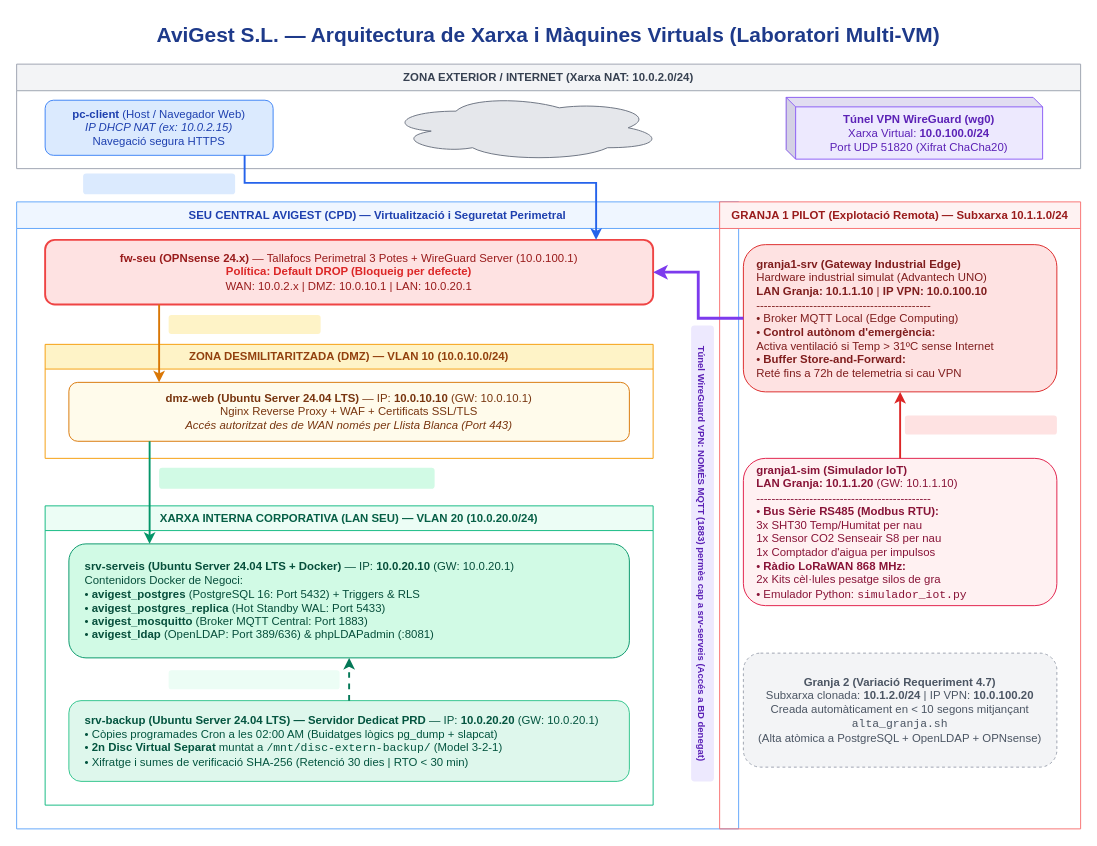
Some shapes in this 1097 by 846 pixel diagram are drawn without their labels. The centre of each missing label's shape, as x and y in pixels:
Cron 02:00 AM (pg_dump + slapcat): the point at 253,679
HTTPS:443 (Llista Blanca): the point at 159,183
NOMÉS SQL:5432 i LDAP:389 (Tota la resta: DROP): the point at 296,477
Reverse Proxy (Port 443 / 80): the point at 244,323
RS485 Modbus + LoRaWAN: the point at 980,424
Xarxa NAT VirtualBox / VMware Gateway NAT: 10.0.2.2 / 10.0.2.1: the point at 524,127
